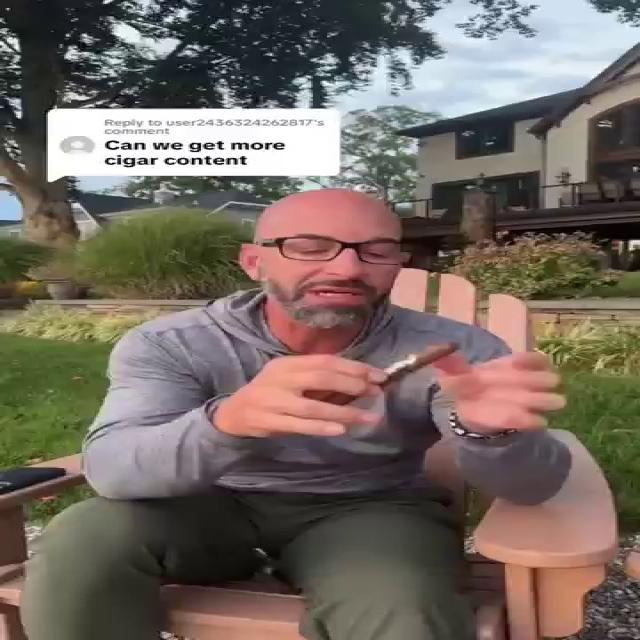Cigarette: (321, 340, 461, 405)
Hand: (223, 355, 395, 440)
Mouth: (307, 287, 368, 306)
